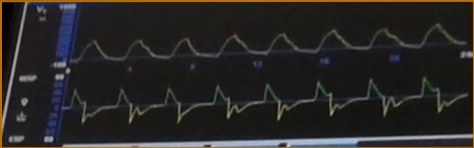Premature_cycling Flow: (66, 74, 466, 130)
Premature_cycling Volume: (77, 12, 466, 66)
